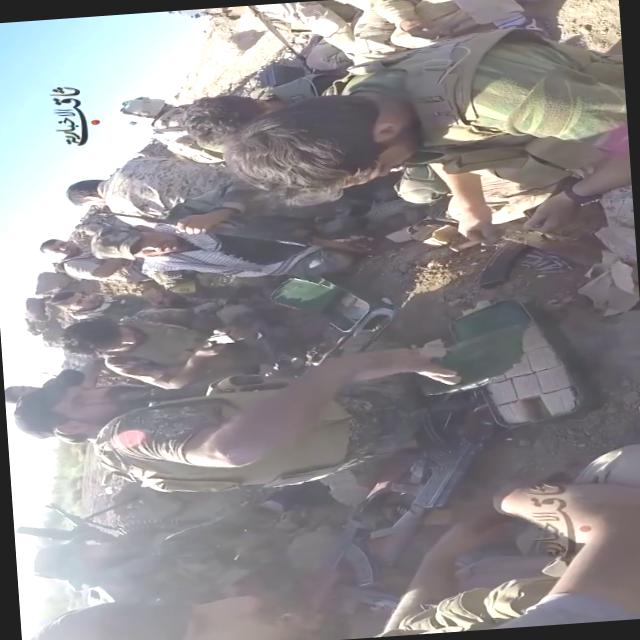long weapon: (90, 184, 384, 284), (364, 379, 514, 552), (292, 476, 408, 609)
